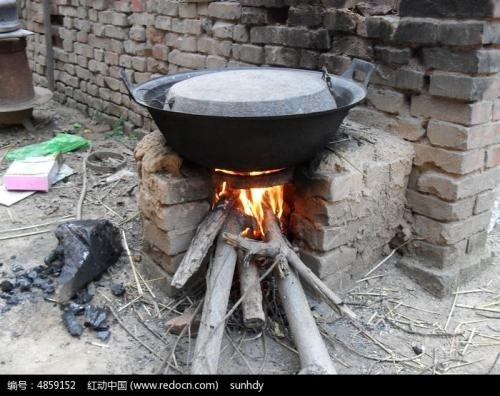fire: (215, 165, 289, 233)
